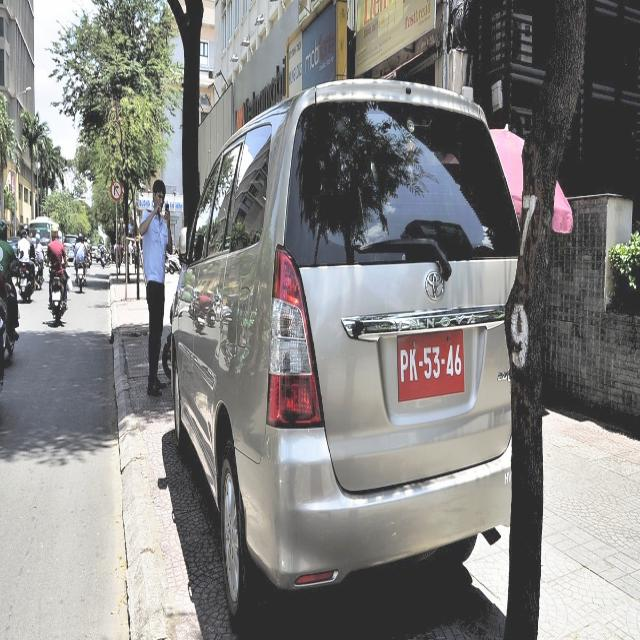license_plate: (398, 331, 465, 403)
